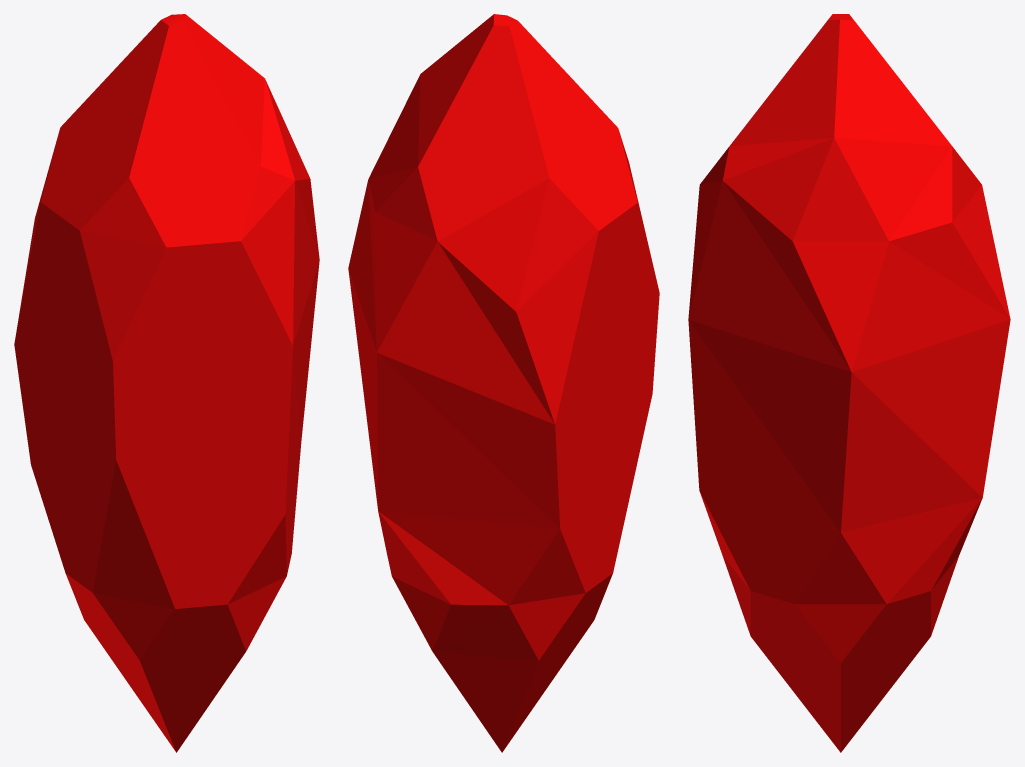
The model's file is Crystal.fbx.
The picture shows the model from 3 angles, left to right: view 1: azimuth 30°, elevation 25°; view 2: azimuth 150°, elevation 25°; view 3: azimuth 270°, elevation 25°; orthographic projection.
Visible parts, largest first — view 1: pCylinder1; view 2: pCylinder1; view 3: pCylinder1.
Part boxes in pixels (left/top/right/bottom): pCylinder1: left=14, top=14, right=319, bottom=752; pCylinder1: left=348, top=14, right=659, bottom=752; pCylinder1: left=688, top=14, right=1010, bottom=752.
Size of the model in its own units: 1.69 by 4.48 by 1.78.
